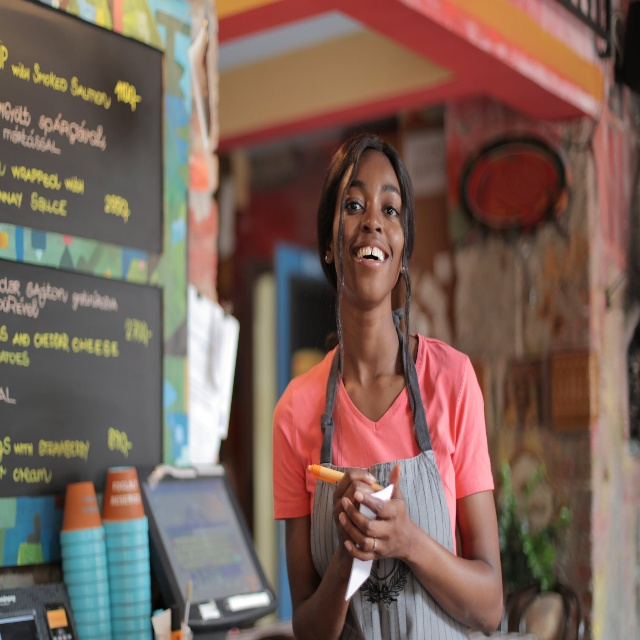Sin_guantes: (339, 461, 410, 560), (331, 467, 377, 559)
